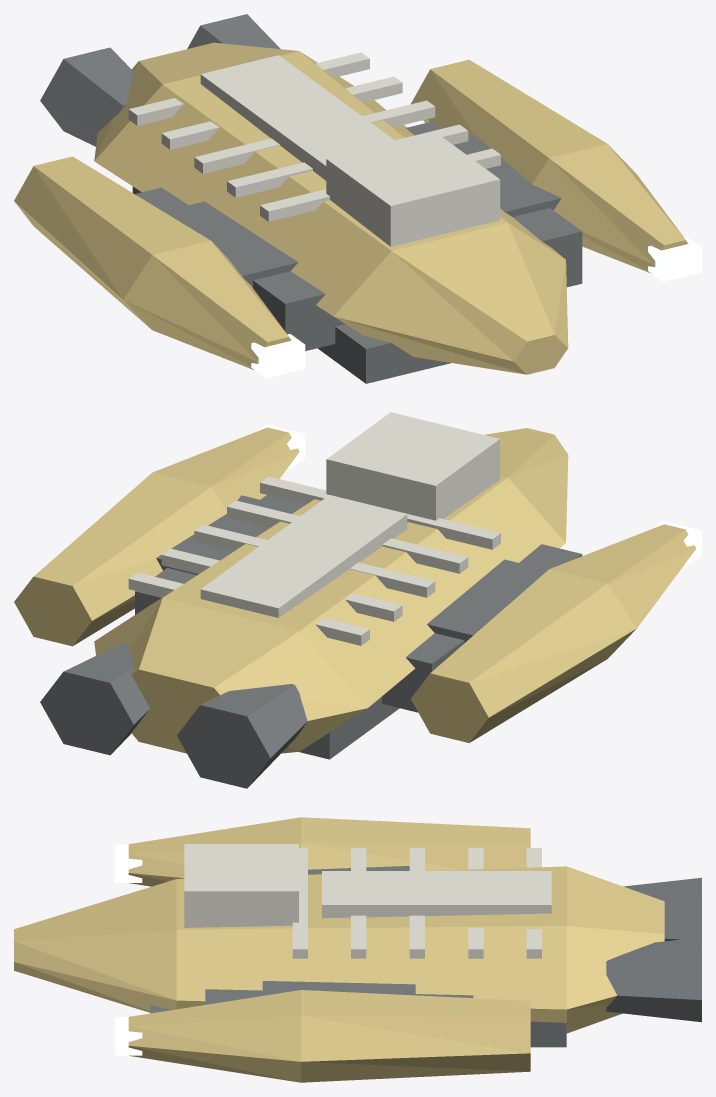
3 views of the same model, one above another, from view 1: azimuth 30°, elevation 25°; view 2: azimuth 150°, elevation 25°; view 3: azimuth 270°, elevation 25° (orthographic). The views are drawn at different scales.
Bounding box in the file's own units: 5.31 × 1.51 × 6.9.
